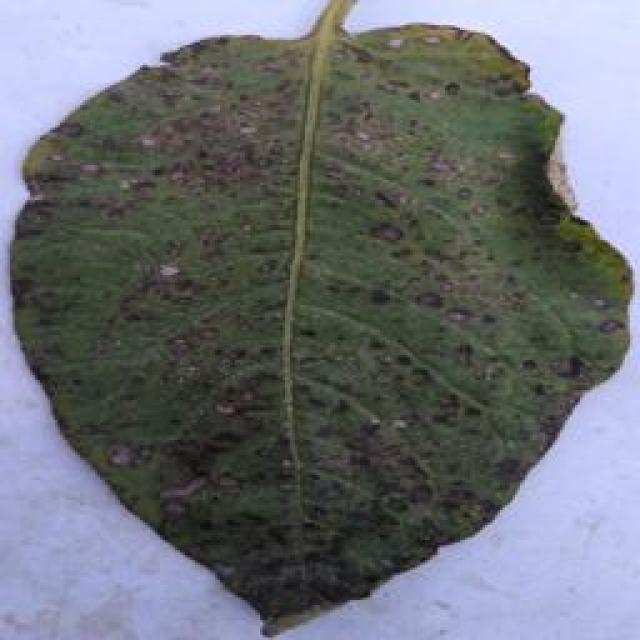Potato_Early_Blight: (5, 10, 638, 638)
